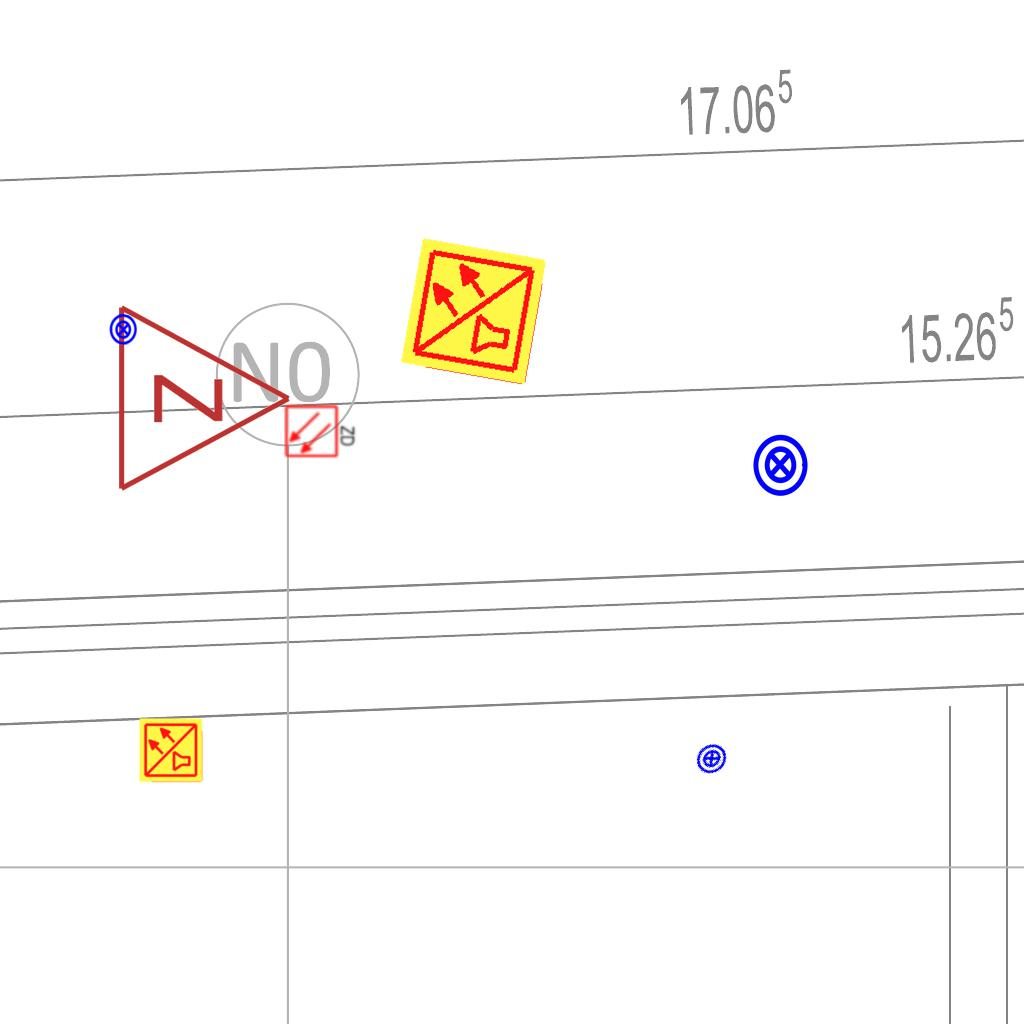OKW_Multisensormelder_(Kombination_optischer_Rauch-Kahlenmonoxid_Waerme-Melder): (397, 234, 551, 388), (138, 717, 204, 783)
Taster_beleuchtet: (747, 432, 813, 498), (688, 735, 735, 782), (106, 312, 141, 347)
ZD_Melder_in_Zwischendecke_mit_Revisionsoeffnung_mind_40_x_40_cm: (284, 402, 358, 459)
Zimmersignalleuchte: (104, 298, 304, 494)
